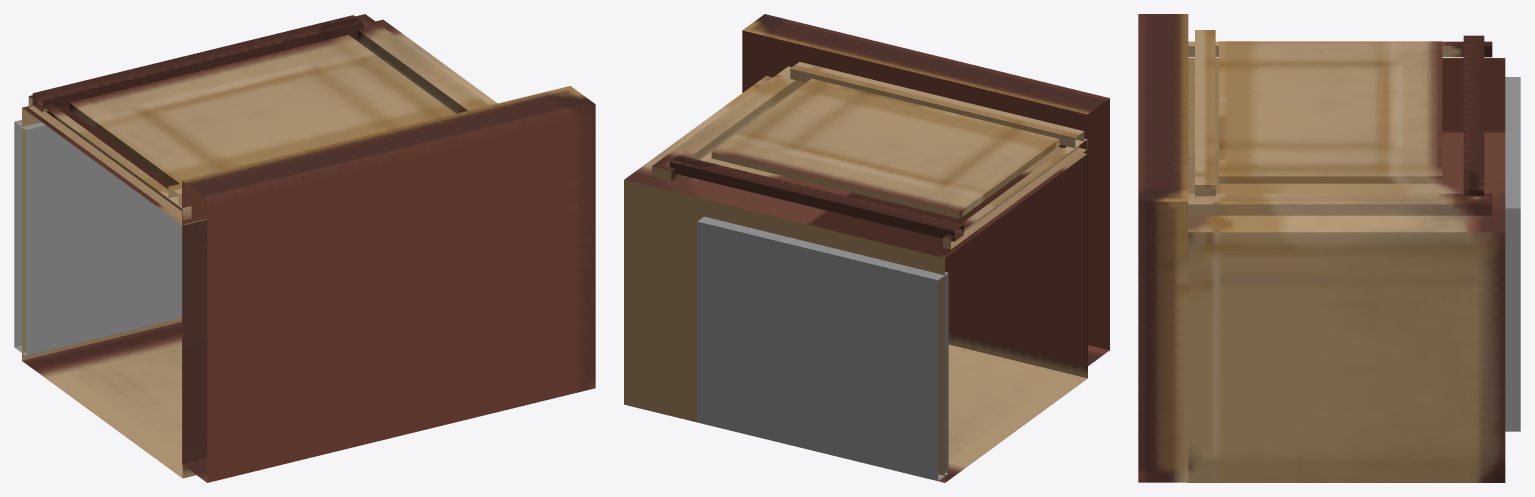
File: section-3.obj
3 renders of one model, left to right at view 1: azimuth 30°, elevation 25°; view 2: azimuth 150°, elevation 25°; view 3: azimuth 270°, elevation 25°, orthographic. The views are drawn at different scales.
Bounding box in the file's own units: 1.05 × 0.7706 × 0.9067.
1 material, 1 textured.
